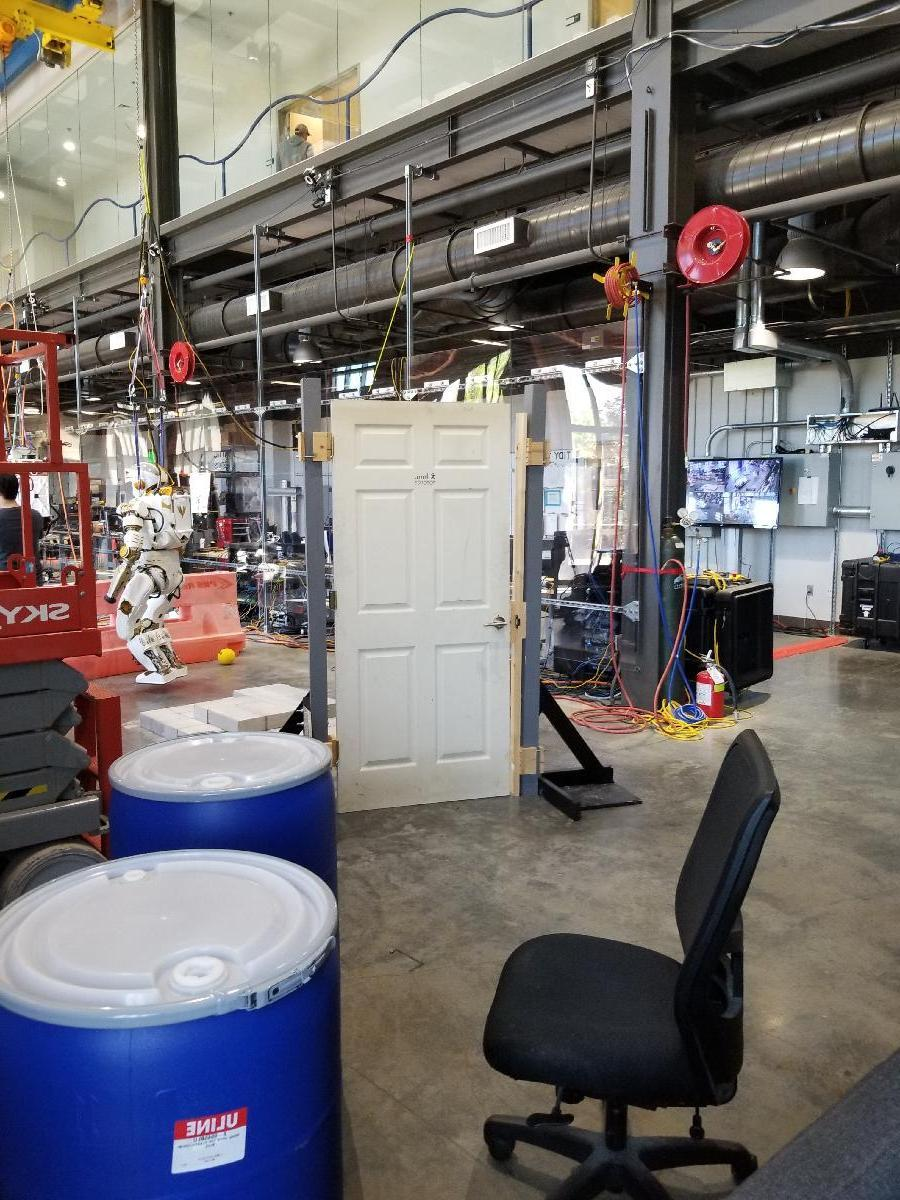door: (330, 400, 512, 806)
handle: (482, 613, 509, 633)
